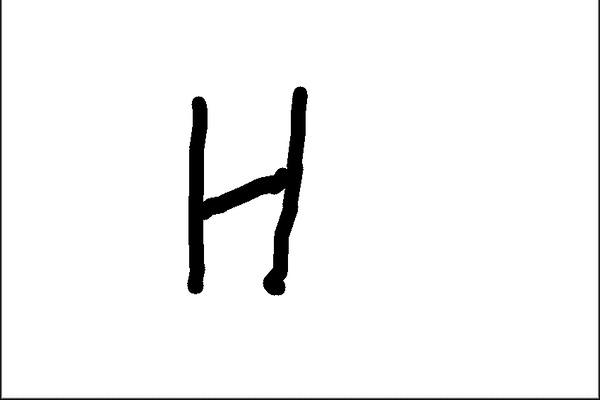H: (176, 83, 311, 303)
